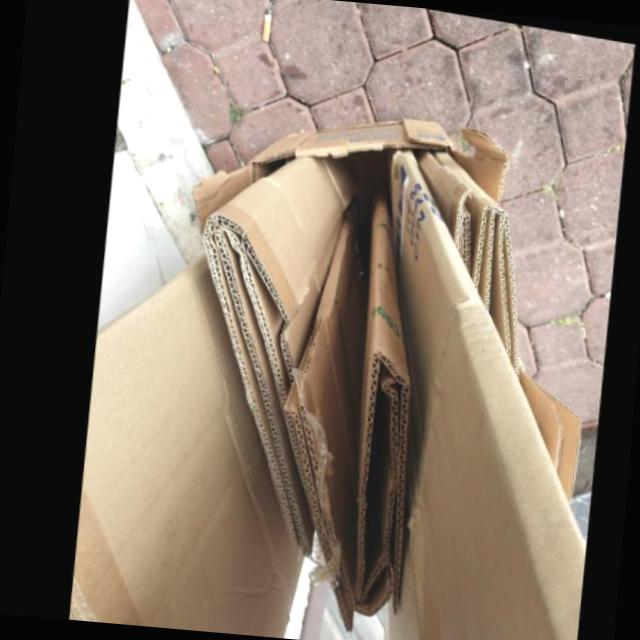carton: (384, 143, 585, 640), (68, 255, 303, 638), (198, 149, 350, 558), (280, 180, 407, 624), (412, 143, 515, 359), (513, 355, 579, 489)
